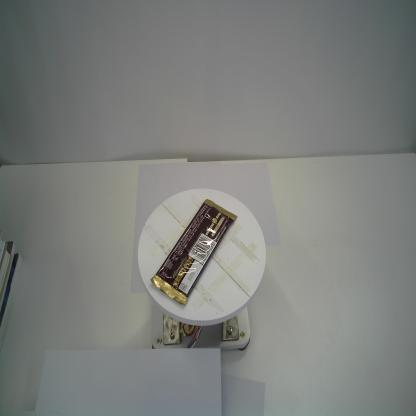Chocolate: (147, 196, 238, 309)
